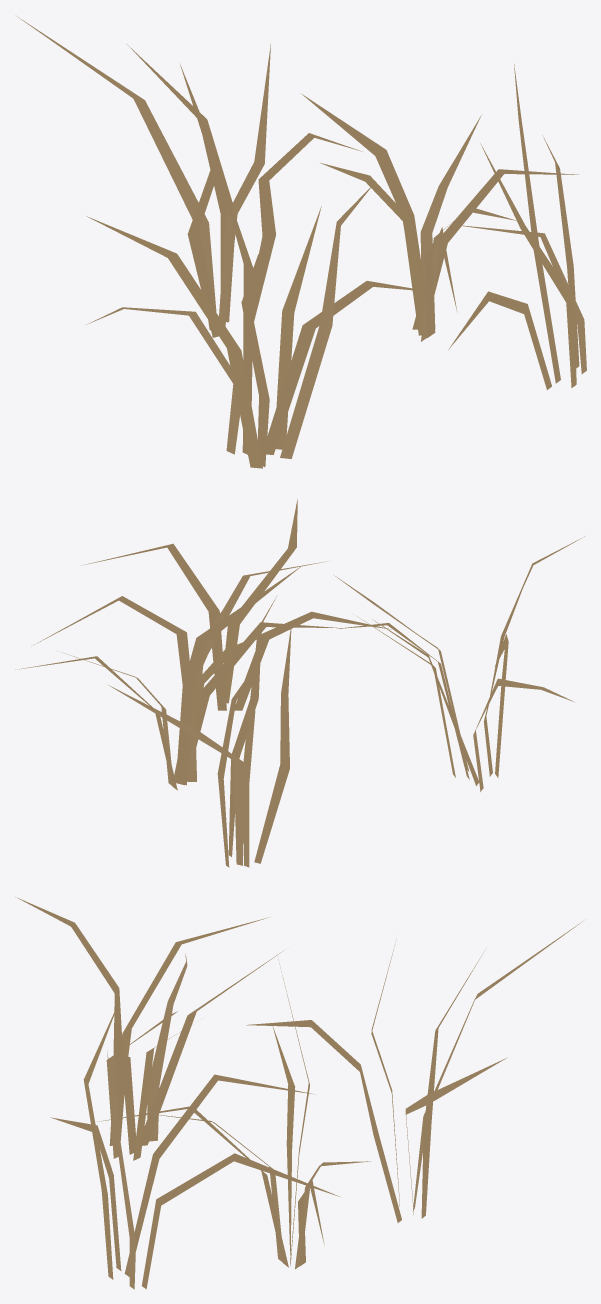
File: Grass_f_TwoS_06.fbx
3 views of the same model, one above another, from view 1: azimuth 30°, elevation 25°; view 2: azimuth 150°, elevation 25°; view 3: azimuth 270°, elevation 25° (orthographic). The views are drawn at different scales.
Parts seen in each view (by area): view 1: Grass_f_TwoS_06; view 2: Grass_f_TwoS_06; view 3: Grass_f_TwoS_06.
Boxes of the visible parts, x1,y1,x2,y2 form: Grass_f_TwoS_06: (17, 16, 586, 468); Grass_f_TwoS_06: (15, 499, 584, 867); Grass_f_TwoS_06: (17, 897, 582, 1289).
Size of the model in its own units: 0.8871 by 0.4301 by 0.8487.
